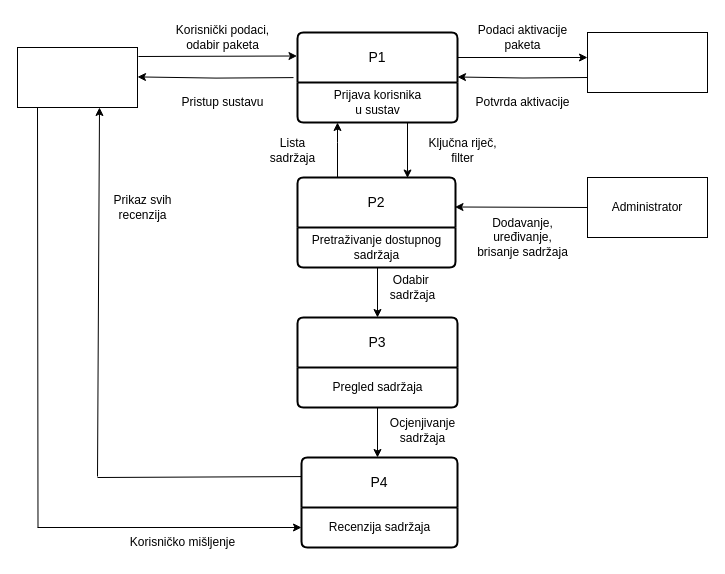
Some shapes in this 725 by 574 pixel diagram are drawn without their labels. Each missing label, with the centre of its shape:
"Korisnik" belongs at point 77,77.
"Sustav naplate" belongs at point 647,62.
